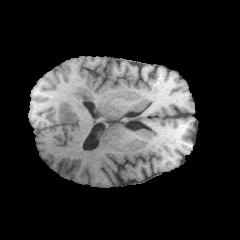glioma: (58, 83, 110, 123)
